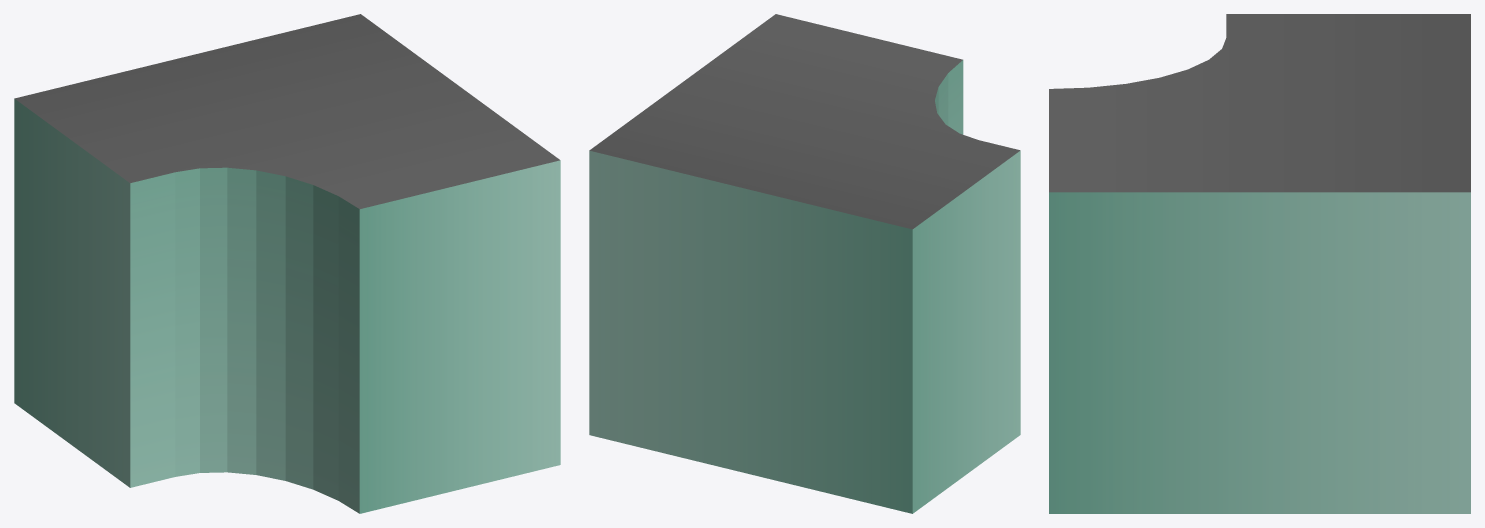
The model's file is Corner con UV.fbx.
3 renders of one model, left to right at view 1: azimuth 30°, elevation 25°; view 2: azimuth 150°, elevation 25°; view 3: azimuth 270°, elevation 25°, orthographic. The views are drawn at different scales.
Parts seen in each view (by area): view 1: Cube.009; view 2: Cube.009; view 3: Cube.009.
Boxes of the visible parts, box(x1,y1,x2,y2) form: Cube.009: box(14, 14, 560, 513); Cube.009: box(589, 14, 1020, 513); Cube.009: box(1049, 14, 1470, 513).
Size of the model in its own units: 515 by 433 by 515.
